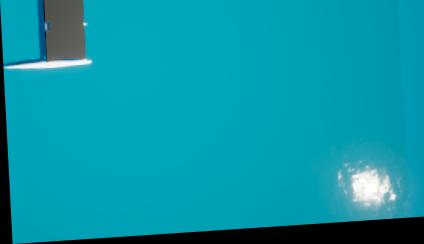boat: (0, 0, 96, 74)
drone: (44, 0, 85, 62)
land_base: (316, 155, 416, 227)
